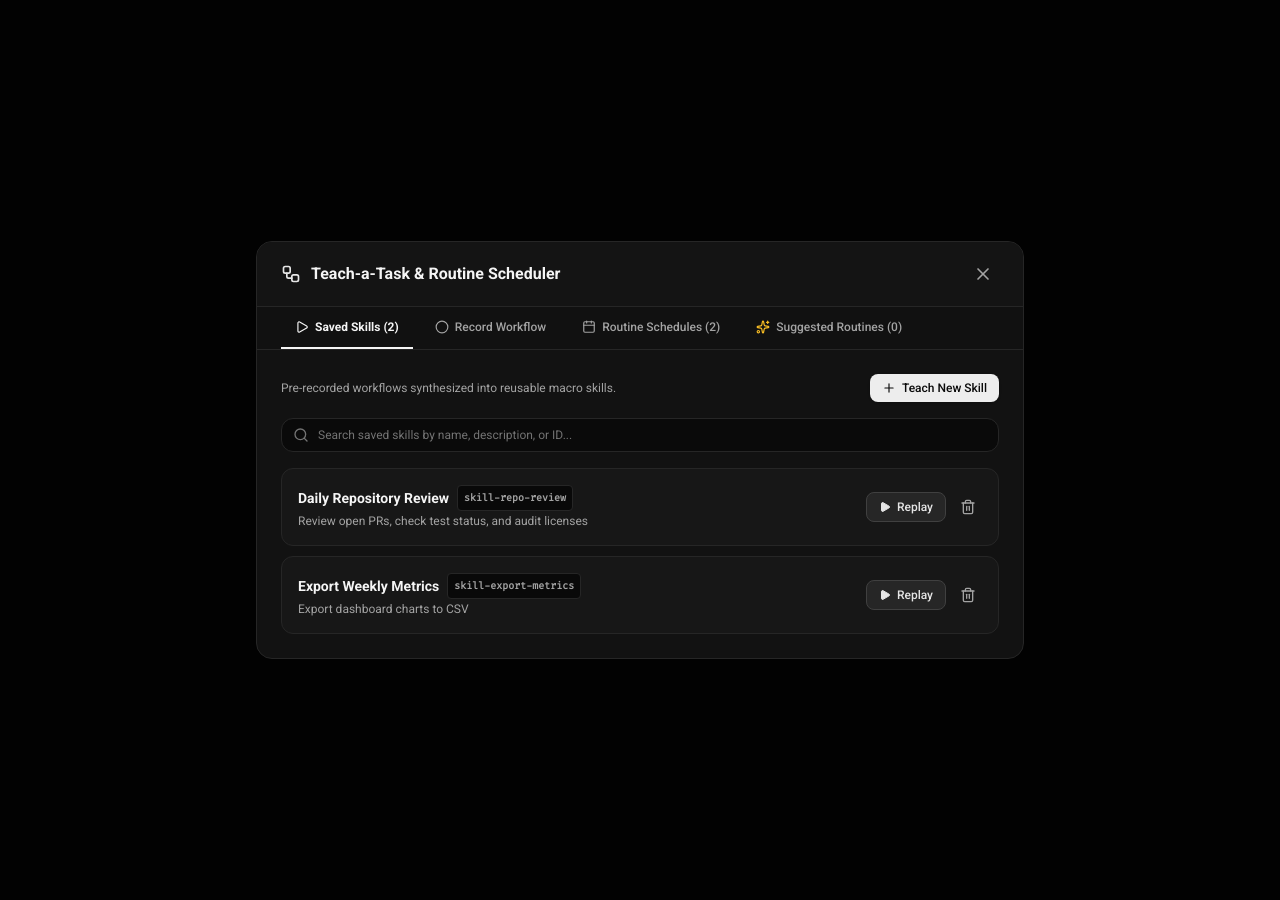
Scenario: TeachTaskModal - Task Deletion & Lifecycle › shows explicit confirmation dialog naming the selected task and consequences
Check: the text "Daily Repository Review" is shown, box [298,488,449,508]
Click the button named "Delete task" in the row of "skill-repo-review" at (968, 507), box [954,493,982,521]
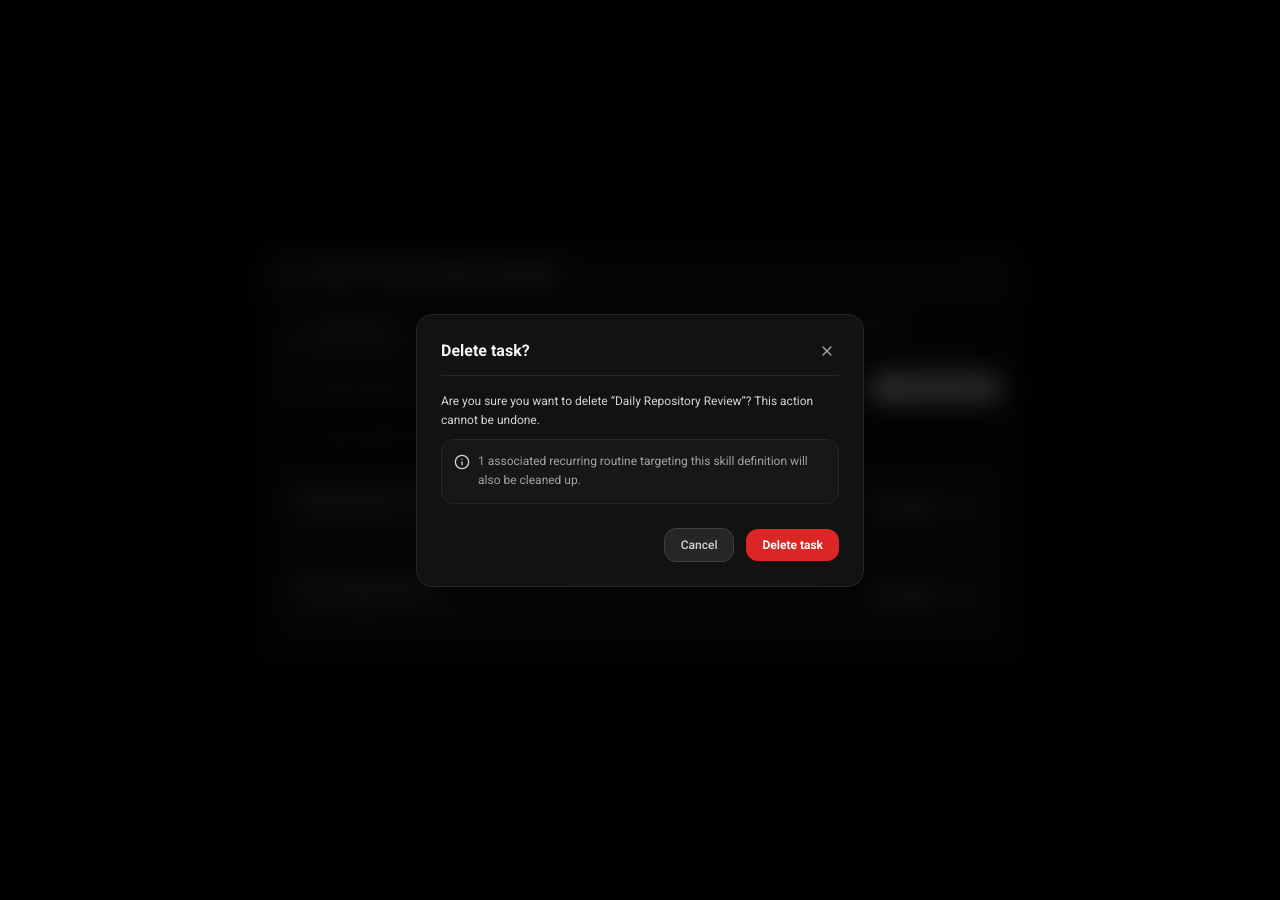
Check: the heading "Delete task?" is shown, box [441,338,530,362]
Check: the text "Are you sure you want to delete “Daily Repository Review”? This action cannot be undone." is shown, box [441,392,839,430]
Check: the text "1 associated recurring routine targeting this skill definition will also be cleaned up" is shown, box [478,452,826,490]
